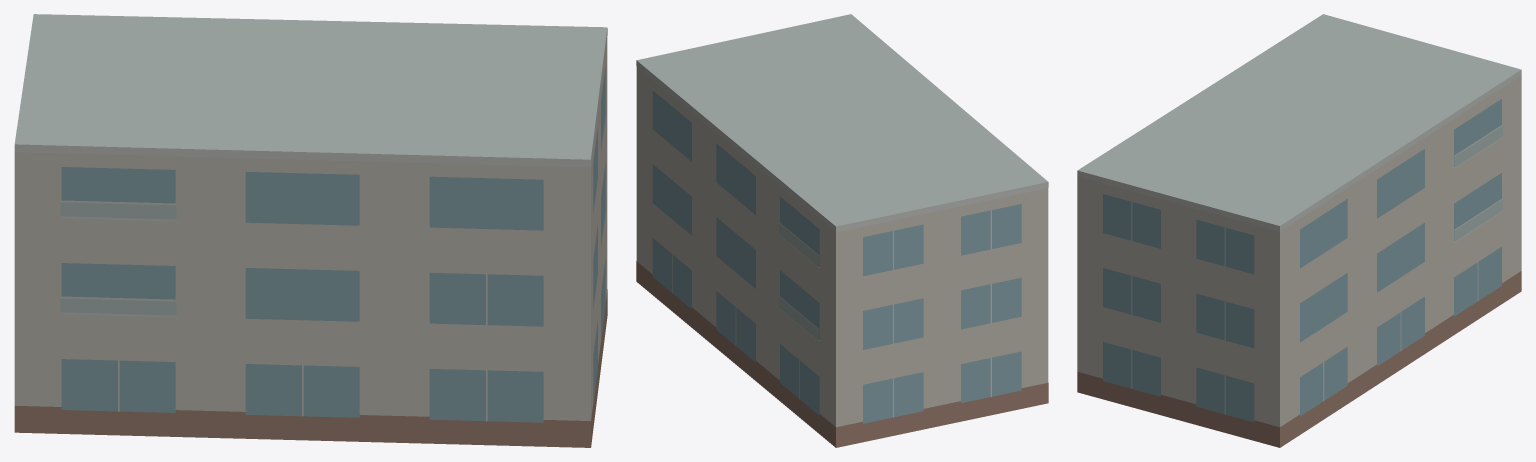
Rendered from survey-upis-32705824.glb.
The picture shows the model from 3 angles, left to right: view 1: azimuth 30°, elevation 25°; view 2: azimuth 150°, elevation 25°; view 3: azimuth 270°, elevation 25°; orthographic projection. The views are drawn at different scales.
Visible parts, largest first — view 1: survey-upis-32705824.tmp; view 2: survey-upis-32705824.tmp; view 3: survey-upis-32705824.tmp.
Boxes of the visible parts, x1,y1,x2,y2 form: survey-upis-32705824.tmp: (14, 14, 607, 447); survey-upis-32705824.tmp: (636, 14, 1048, 447); survey-upis-32705824.tmp: (1077, 14, 1521, 447).
Size of the model in its own units: 18.77 by 9.15 by 16.61.
